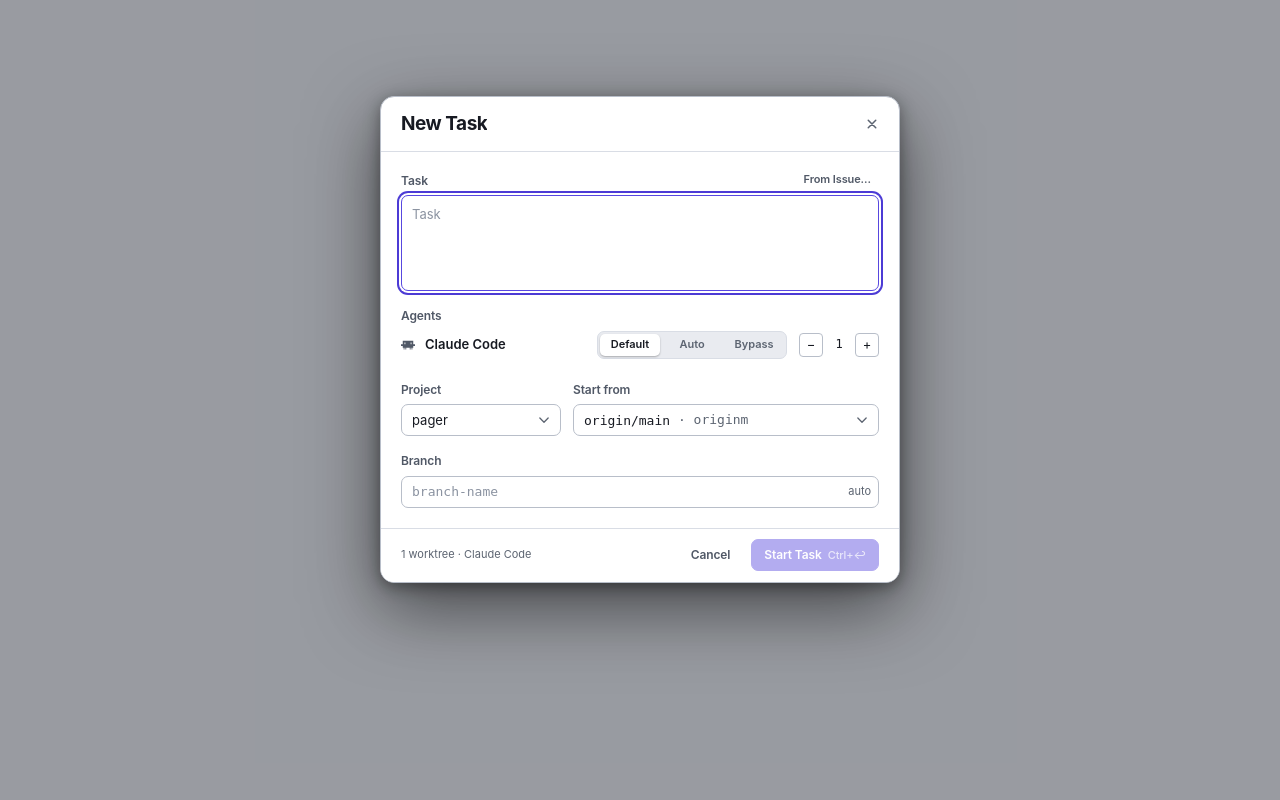
Test: the branch it will make › previews the suffix the runtime will add when the task’s own name is taken
Type "Rewrite the pager" into the text box labelled "Task" at (640, 243), box [401,195,879,291]
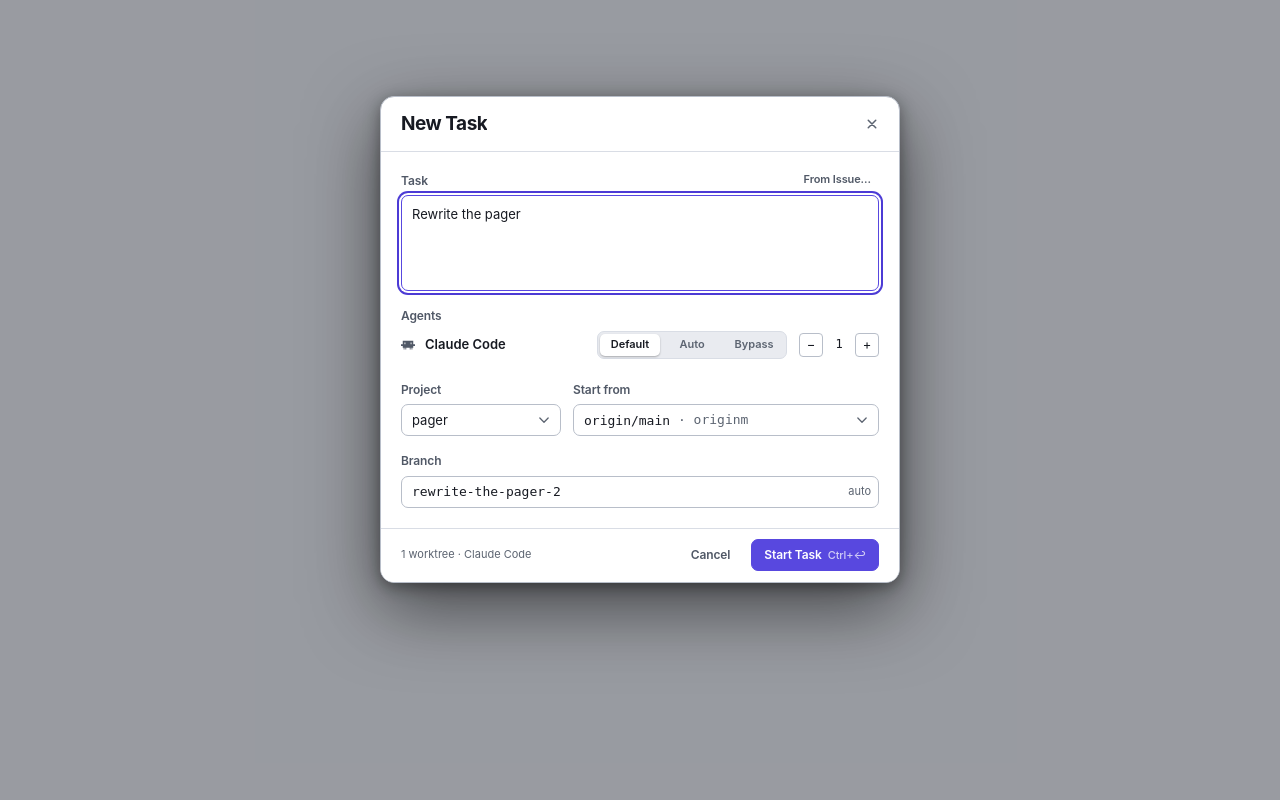
Now the field labelled "Branch" holds "rewrite-the-pager-2", box [401,476,879,508]
